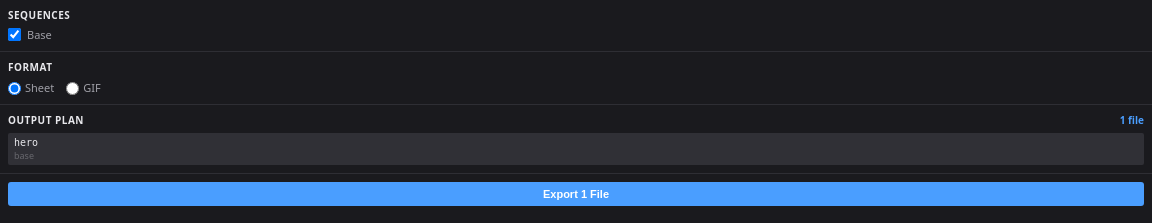
BundlePanel › export button disabled when no variants selected
Note: Uncheck base
What coordinates should you click on to do the following:
click the checkbox labelled "Base"
I would click on:
 (14, 35)
Its box is x1=8 y1=28 x2=21 y2=41.
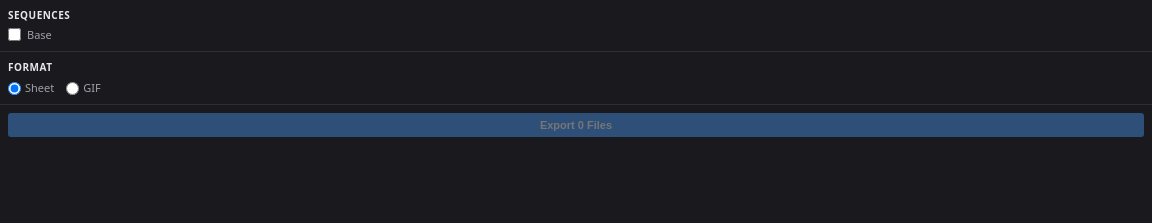
Check: the button with test id "bundle-export" is disabled, box x1=8 y1=113 x2=1144 y2=137
